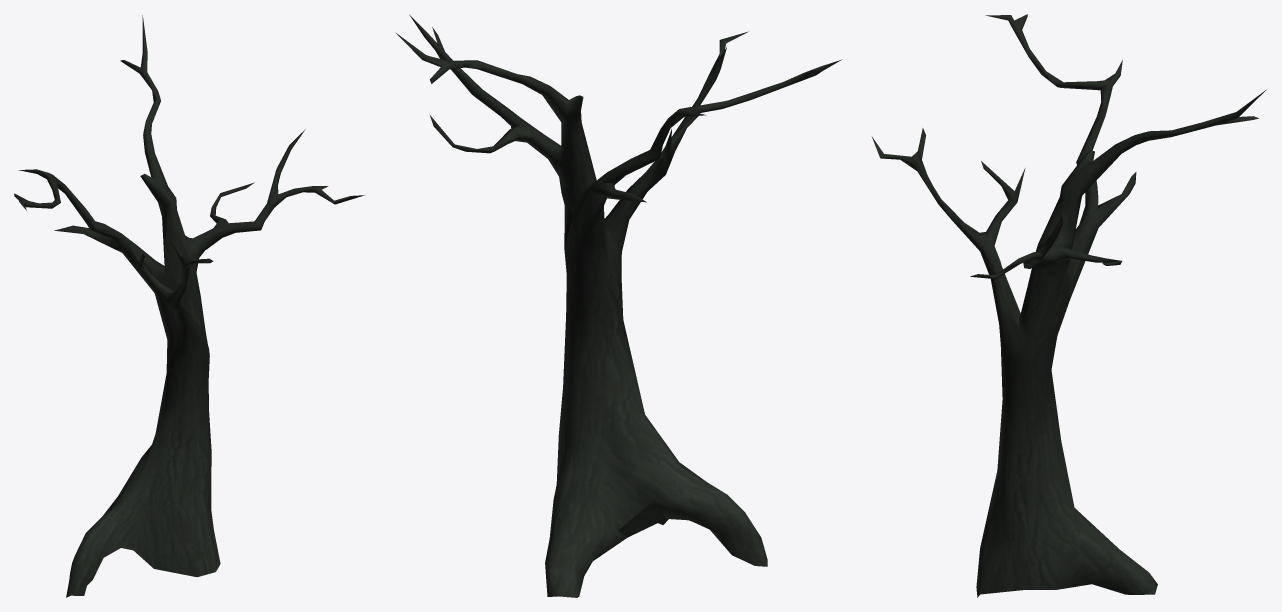
The model's file is controlled_burn_tree.fbx.
3 renders of one model, left to right at view 1: azimuth 30°, elevation 25°; view 2: azimuth 150°, elevation 25°; view 3: azimuth 270°, elevation 25°, orthographic. The views are drawn at different scales.
Visible parts, largest first — view 1: controlled_burn_tree; view 2: controlled_burn_tree; view 3: controlled_burn_tree.
Boxes of the visible parts, <box> form: controlled_burn_tree: <box>14,15,365,597</box>; controlled_burn_tree: <box>395,14,841,597</box>; controlled_burn_tree: <box>871,14,1266,597</box>.
Bounding box in the file's own units: 30359 × 40758 × 26623.
